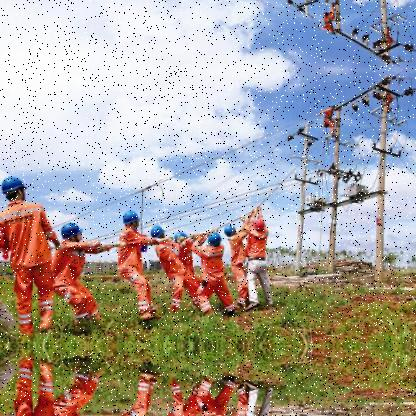helmet: (3, 170, 29, 202), (60, 218, 85, 240), (123, 207, 145, 228), (225, 221, 243, 240), (173, 228, 191, 247), (151, 223, 167, 242), (253, 215, 269, 232), (207, 229, 222, 246)
